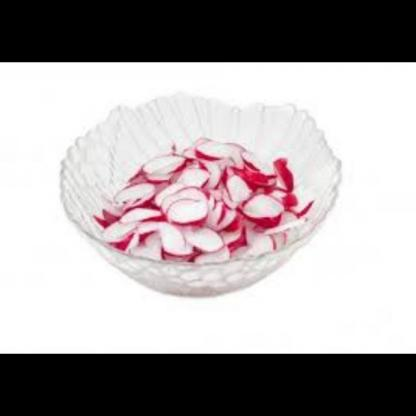rediska: (89, 122, 316, 269)
